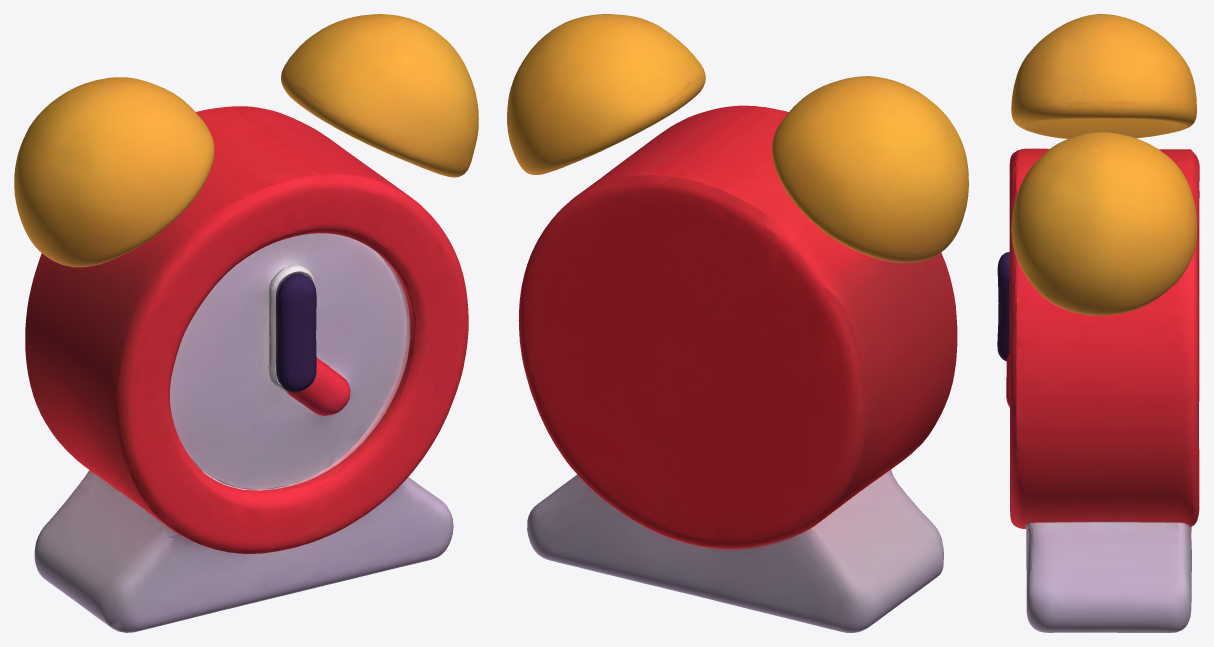
File: alarm_clock.glb
The picture shows the model from 3 angles, left to right: view 1: azimuth 30°, elevation 25°; view 2: azimuth 150°, elevation 25°; view 3: azimuth 270°, elevation 25°; orthographic projection. The views are drawn at different scales.
Parts seen in each view (by area): view 1: model; view 2: model; view 3: model.
Part boxes in pixels (x1,y1,x2,y2): model: (14, 14, 478, 632); model: (507, 14, 968, 632); model: (997, 14, 1199, 632).
Bounding box in the file's own units: 0.8936 × 1 × 0.3811.
Materials: 1 (1 with a texture image).
